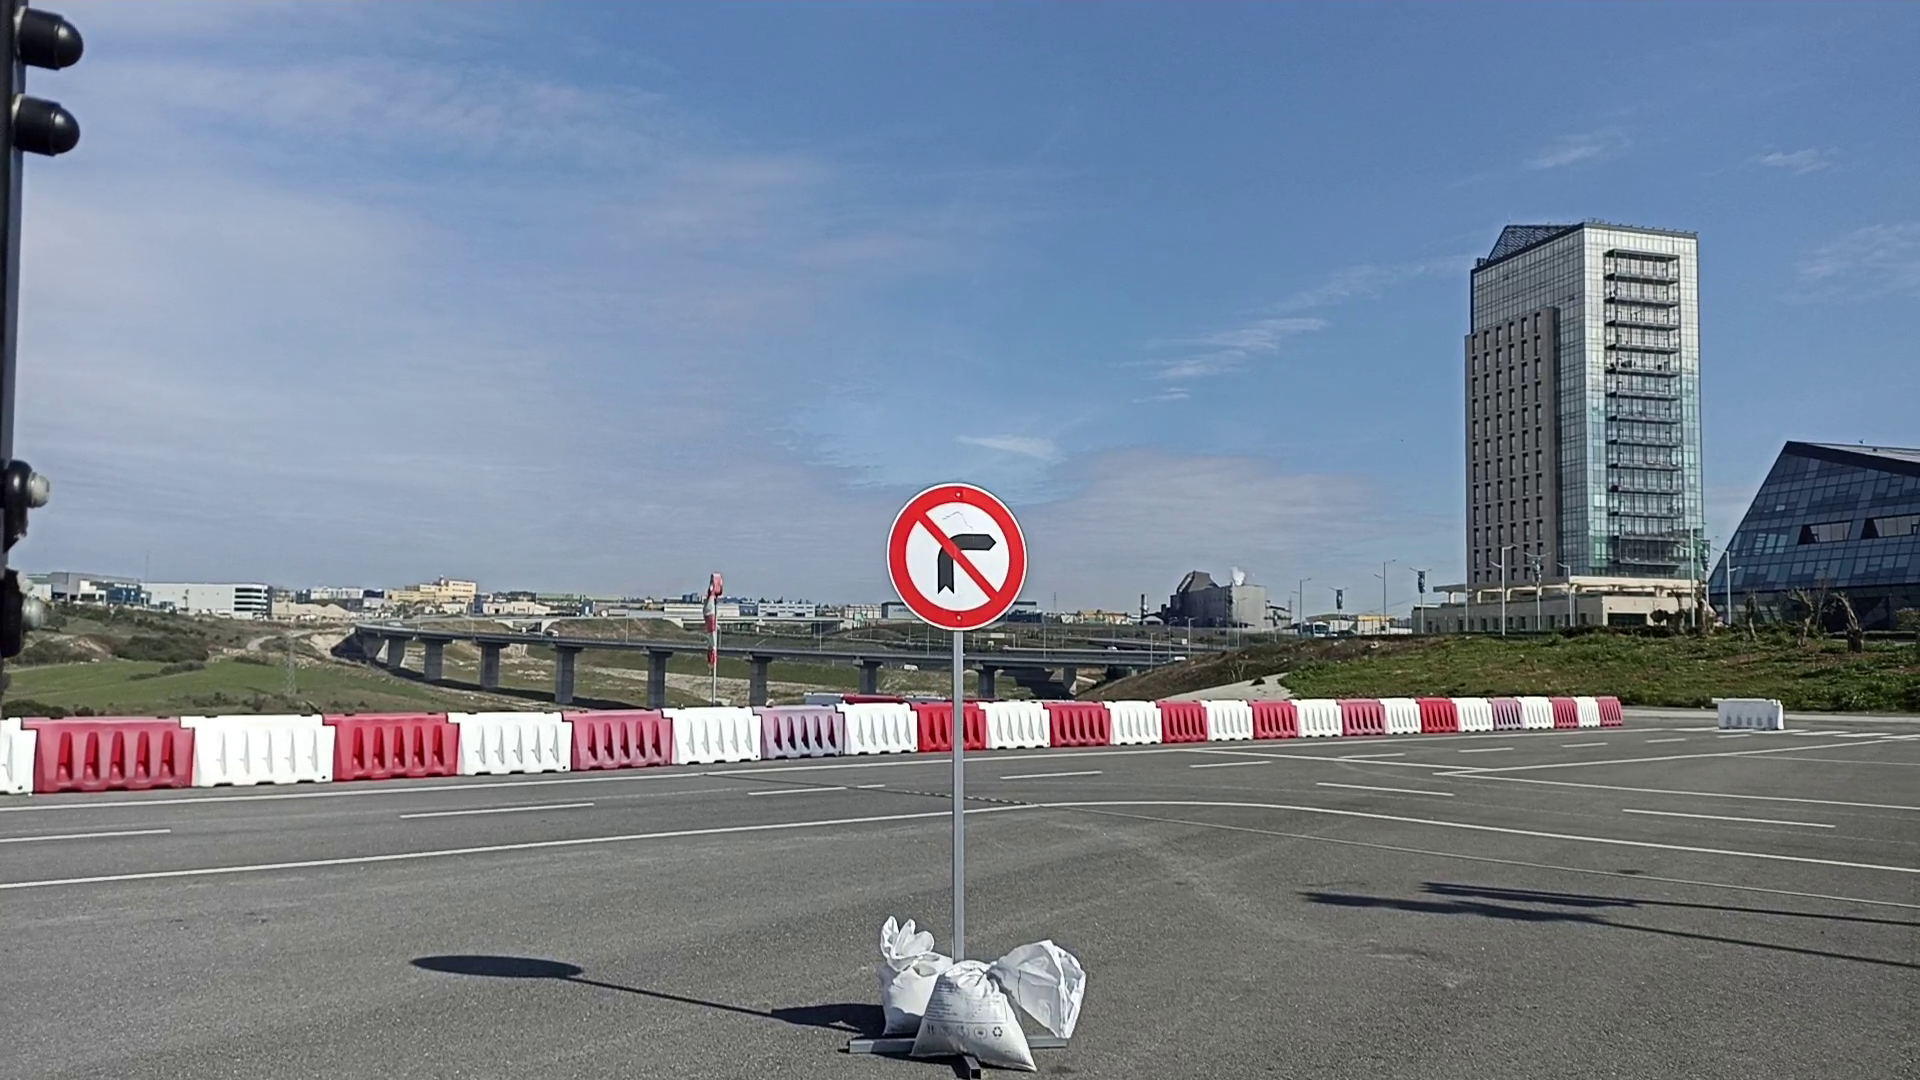noleftturn: (884, 477, 1030, 632)
